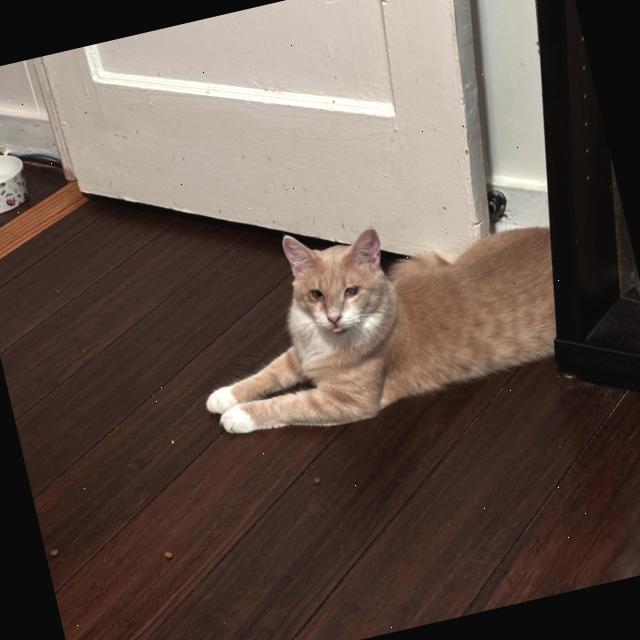domestic_long_hair_cat: (267, 206, 411, 364)
